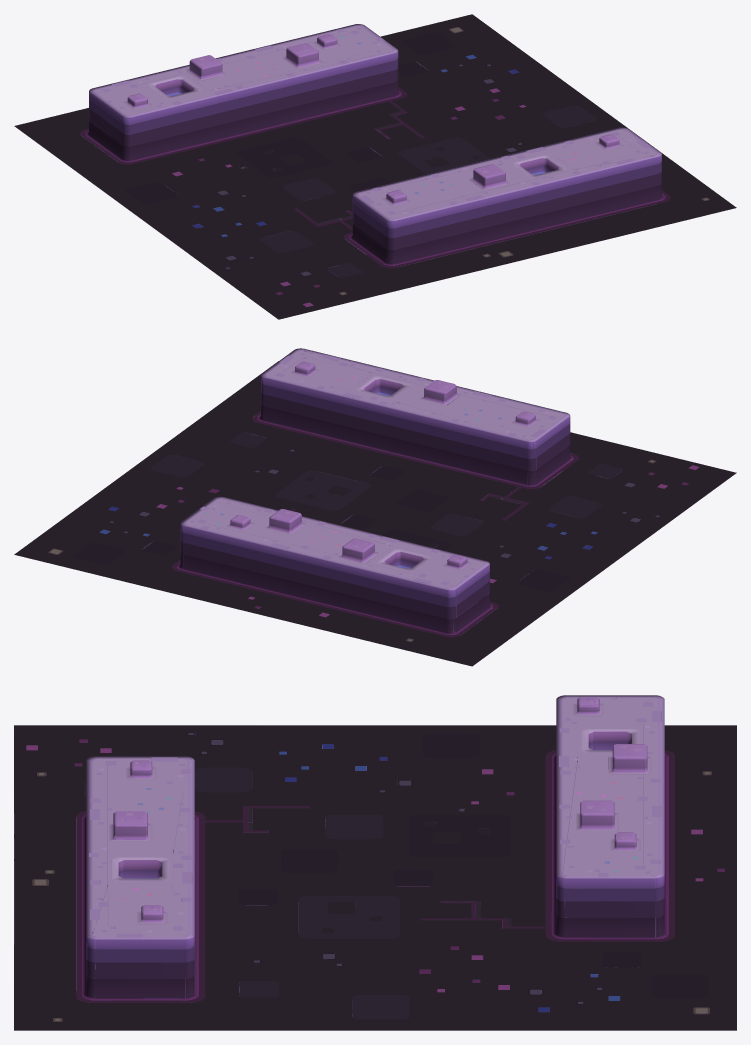
Rendered from C_special1_01.fbx.
The picture shows the model from 3 angles, top to bottom: view 1: azimuth 30°, elevation 25°; view 2: azimuth 150°, elevation 25°; view 3: azimuth 270°, elevation 25°; orthographic projection. The views are drawn at different scales.
Parts seen in each view (by area): view 1: C_special1_01.001; view 2: C_special1_01.001; view 3: C_special1_01.001.
Boxes of the visible parts, box(x1,y1,x2,y2) form: C_special1_01.001: box(14, 14, 736, 319); C_special1_01.001: box(14, 348, 736, 666); C_special1_01.001: box(14, 695, 736, 1030).
Size of the model in its own units: 50 by 5.85 by 50.
Materials: 1 (1 with a texture image).
